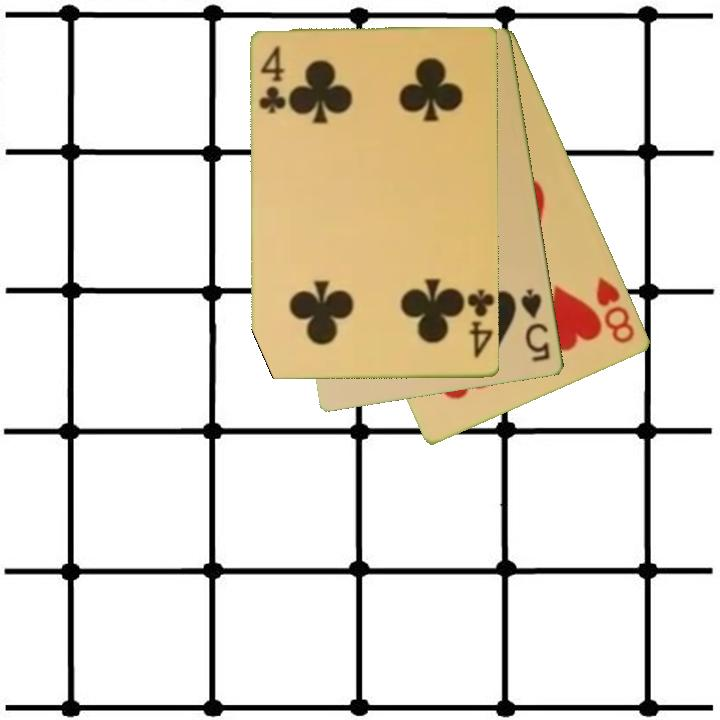4c: (256, 43, 288, 117), (464, 286, 495, 362)
5s: (517, 285, 554, 365)
8h: (593, 273, 638, 347)
